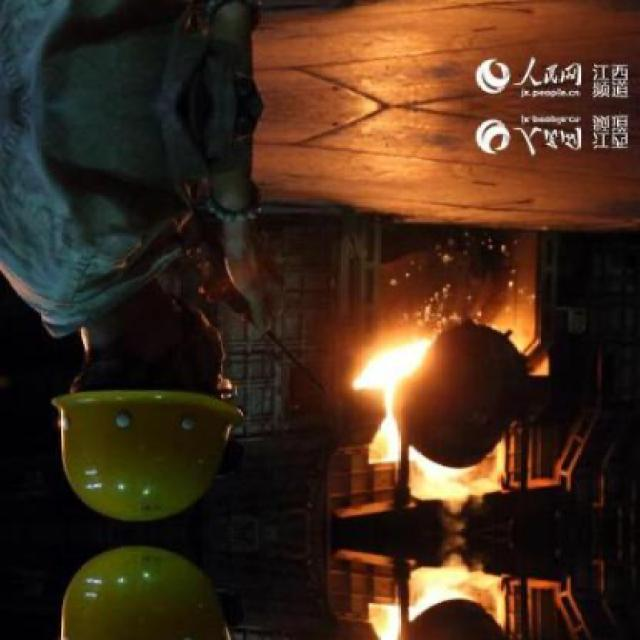con casco: (53, 321, 263, 531)
